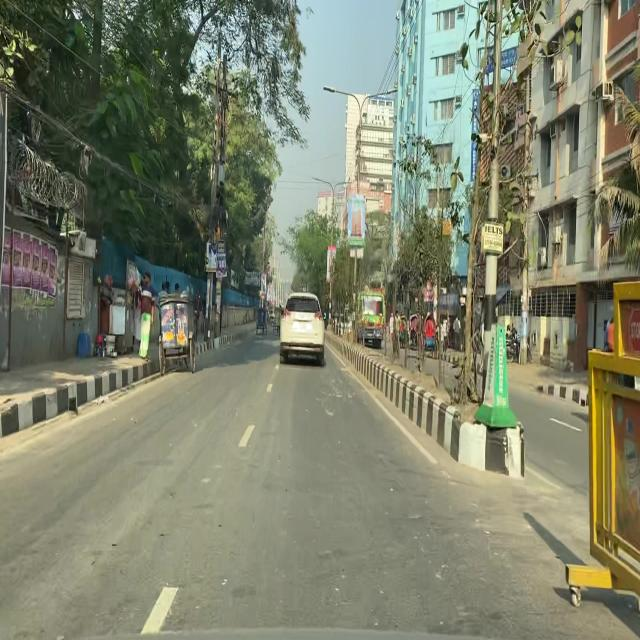car: (279, 291, 325, 368)
motorbike: (501, 322, 534, 366)
